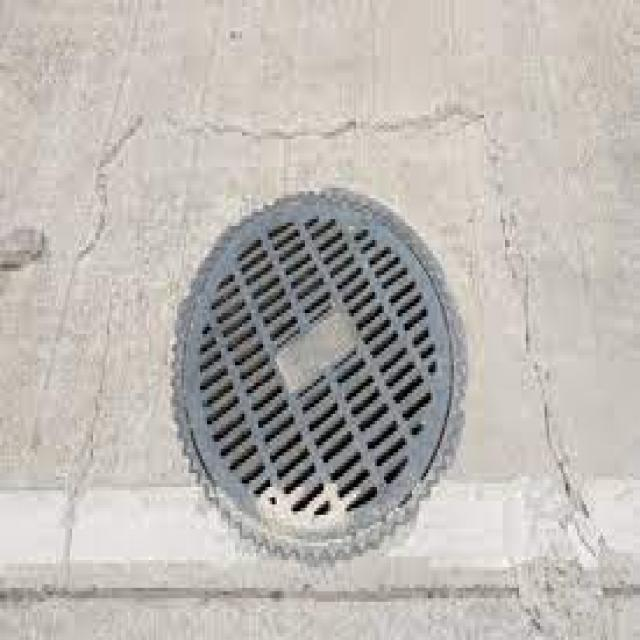manhole: (178, 190, 456, 551)
